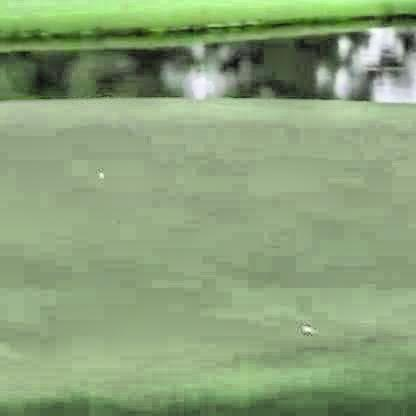golfball: (95, 168, 102, 175)
